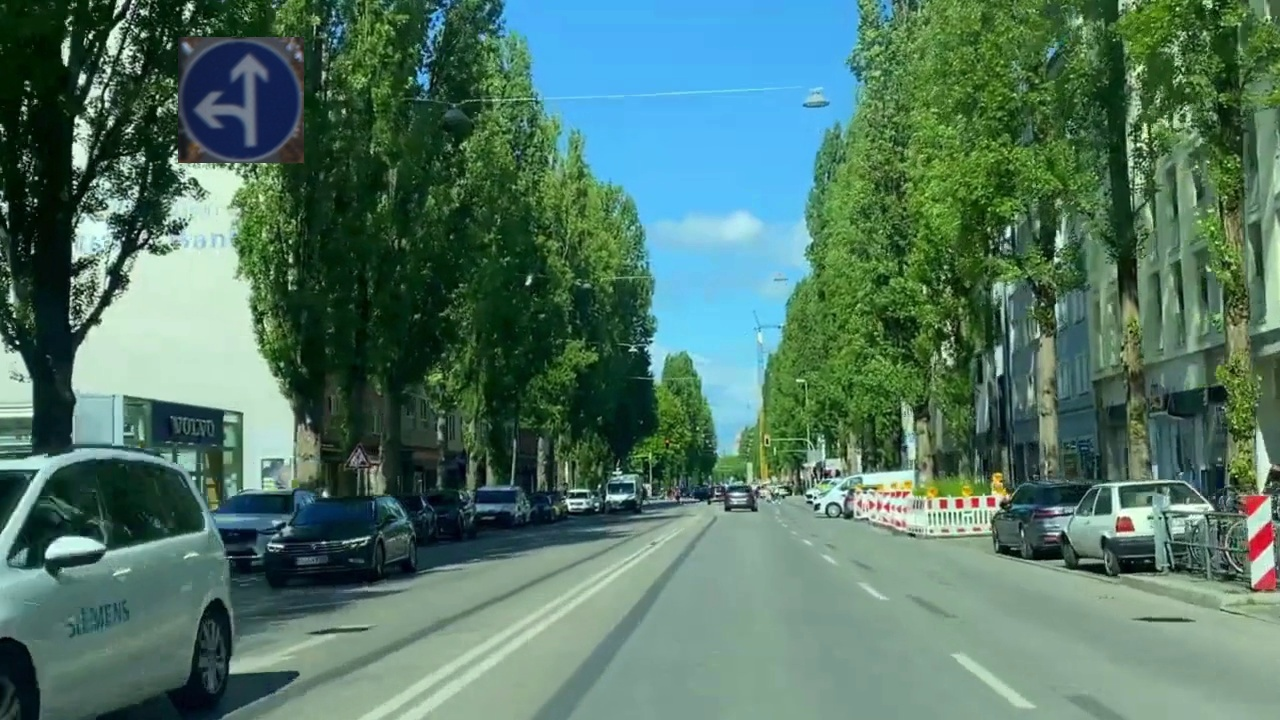Straight/left: (178, 37, 304, 163)
